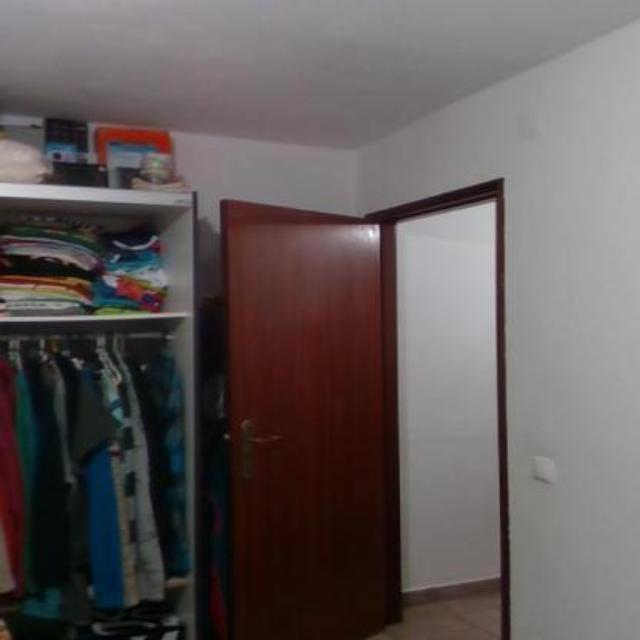door: (219, 197, 394, 639)
